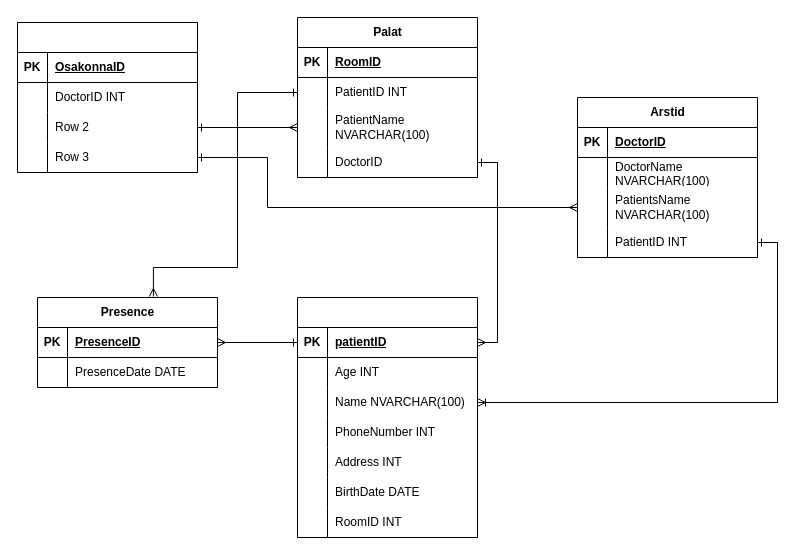
The diagram is 804 pixels wide and 555 high, and some of its shapes have lost their labels. The box of each missing label's shape, as (x1, y1, x2, y2) in pixels:
Osakonnad: (16, 22, 198, 172)
Patsient: (296, 296, 478, 538)
